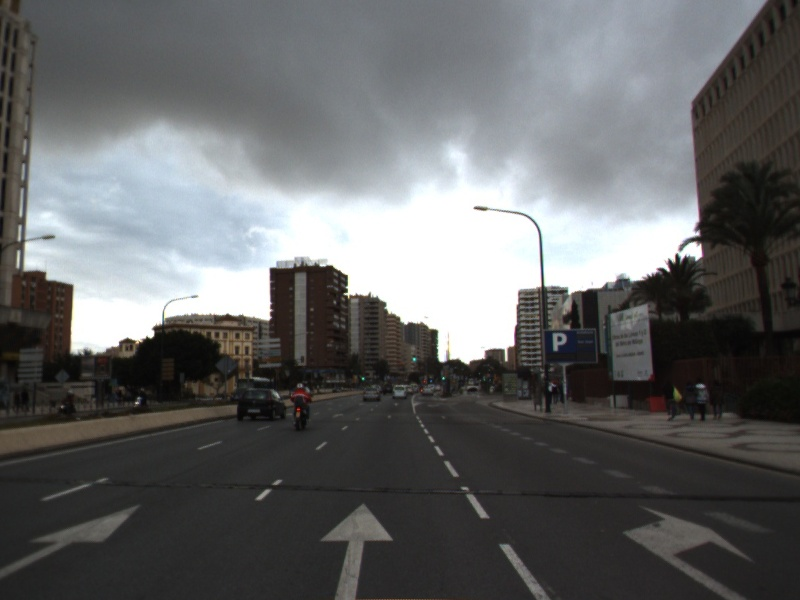RIGHT: (621, 502, 755, 600)
STRAIGHT: (1, 502, 143, 579), (318, 501, 396, 600)
